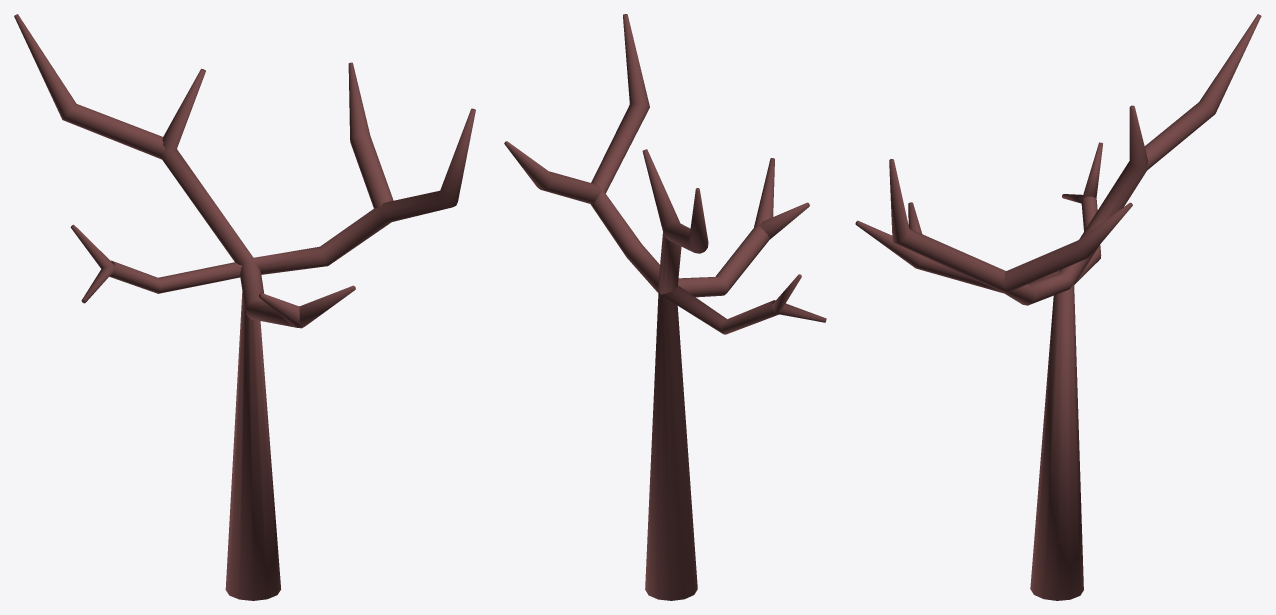
File: tree 1.fbx
The picture shows the model from 3 angles, left to right: view 1: azimuth 30°, elevation 25°; view 2: azimuth 150°, elevation 25°; view 3: azimuth 270°, elevation 25°; orthographic projection. The views are drawn at different scales.
Visible parts, largest first — view 1: Cube.001; view 2: Cube.001; view 3: Cube.001.
Part boxes in pixels (x1,y1,x2,y2): Cube.001: (14,14,475,600); Cube.001: (504,14,826,600); Cube.001: (855,14,1261,600).
Size of the model in its own units: 294 by 489 by 351.
